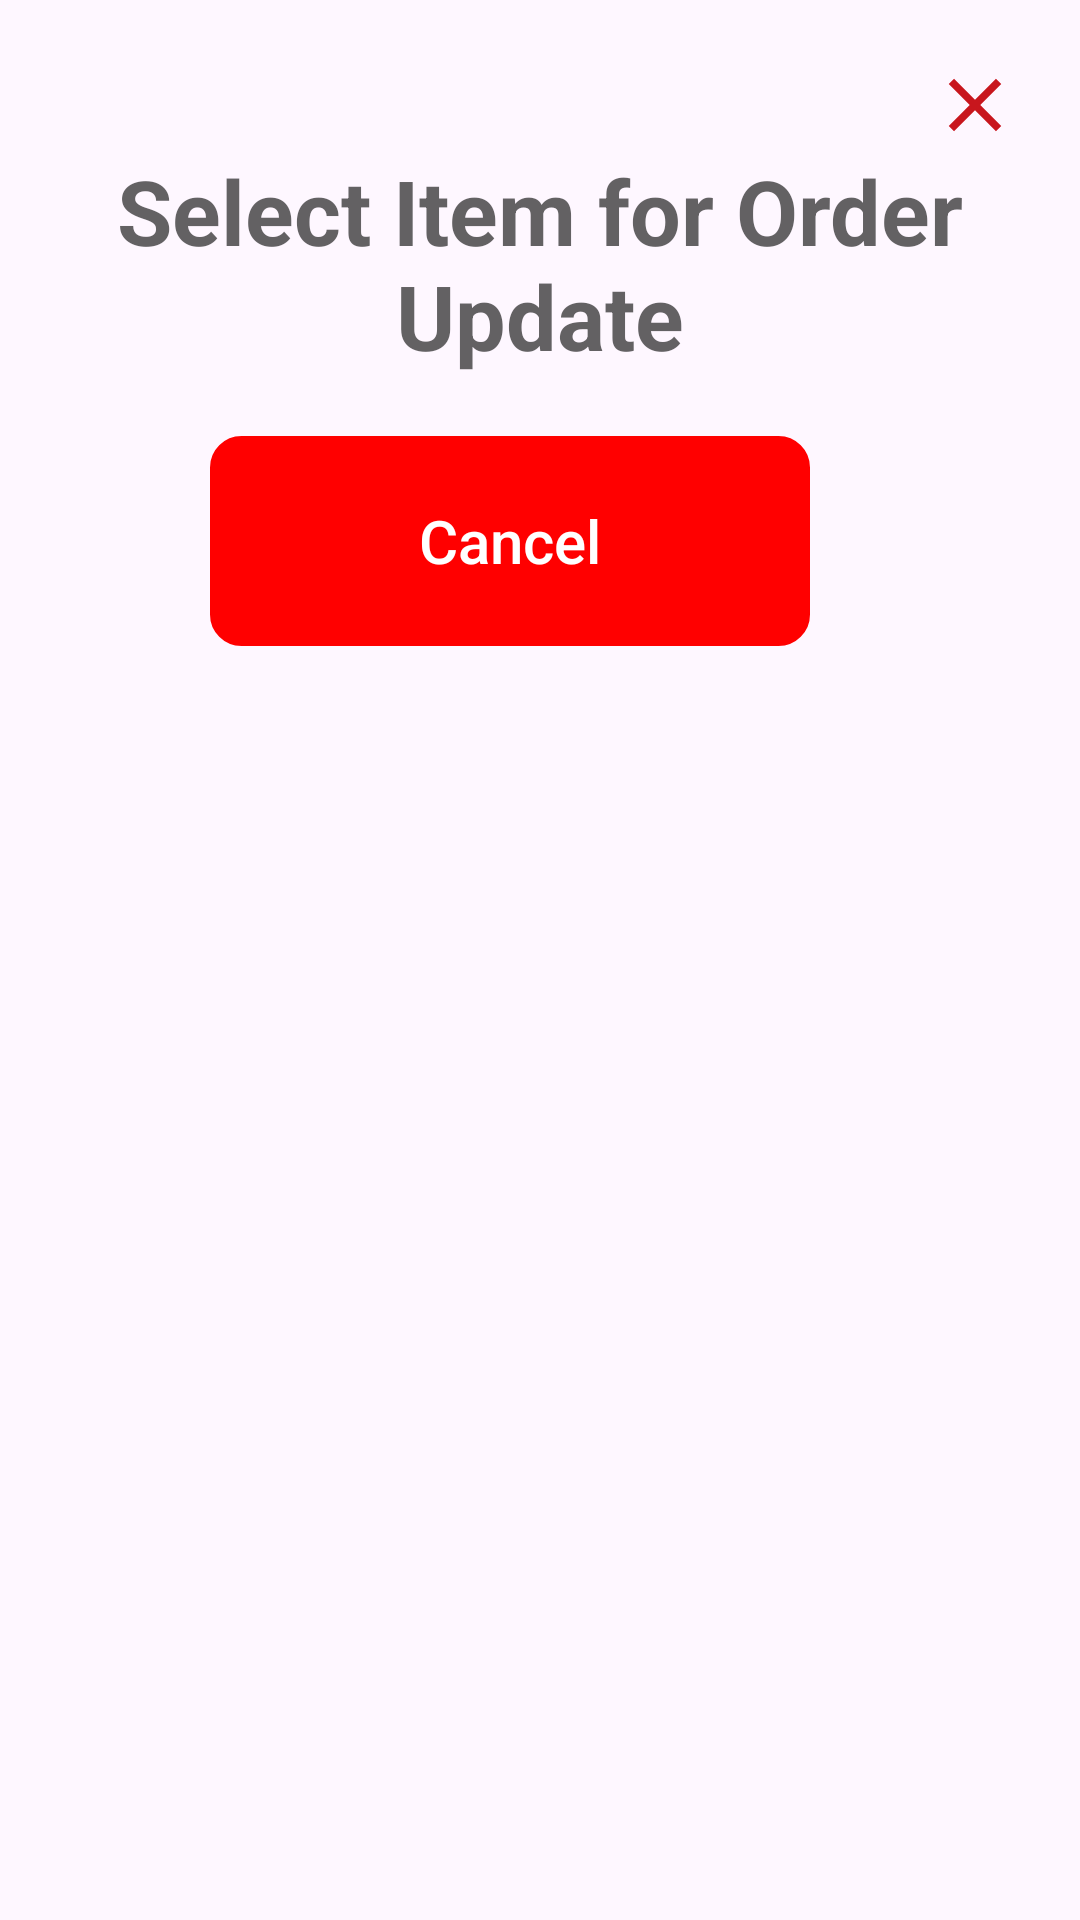

Where to tap for icons on this 1080 × 1920 app screen, as point (x, y):
close: point (975, 105)
